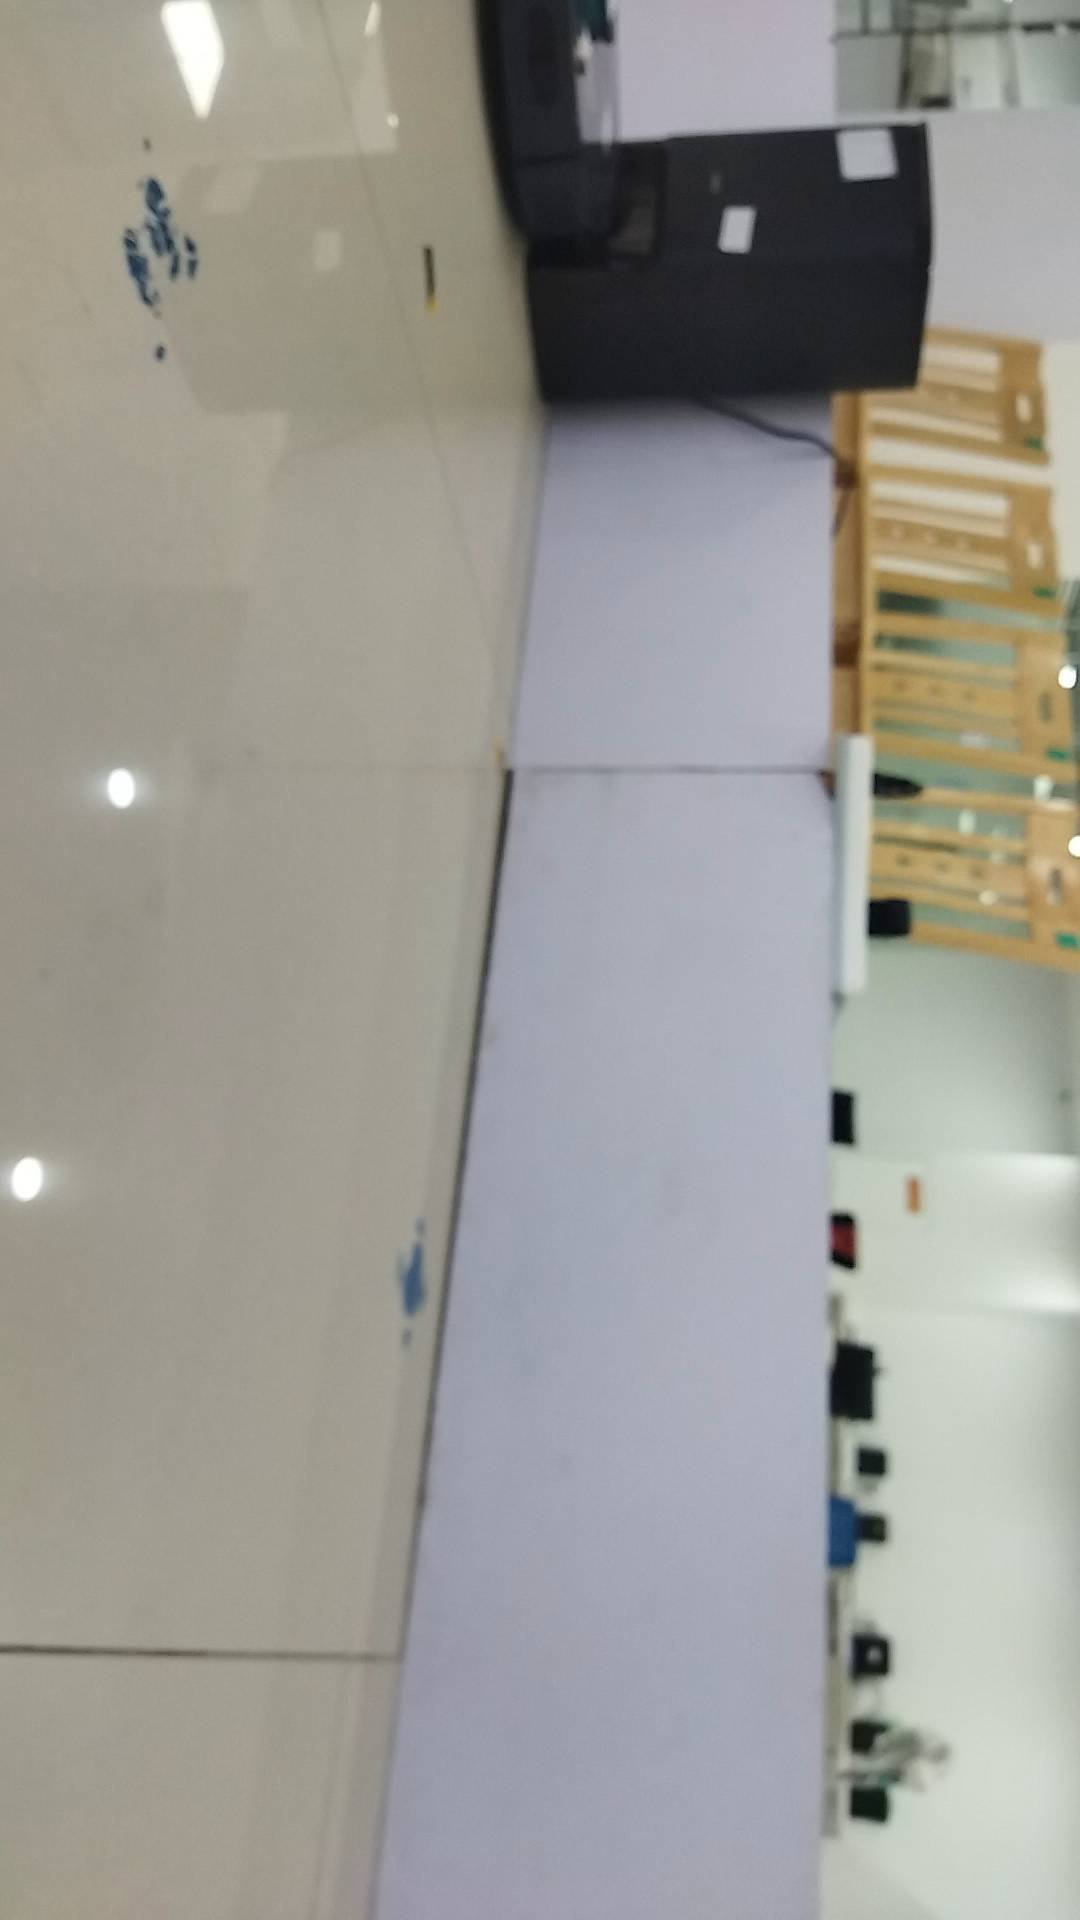dust collecting barrel: (518, 124, 935, 407)
